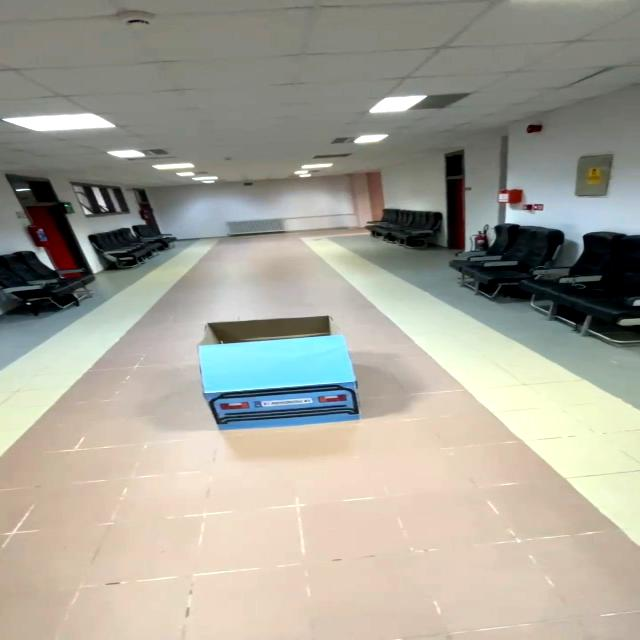blue_car: (174, 306, 383, 444)
